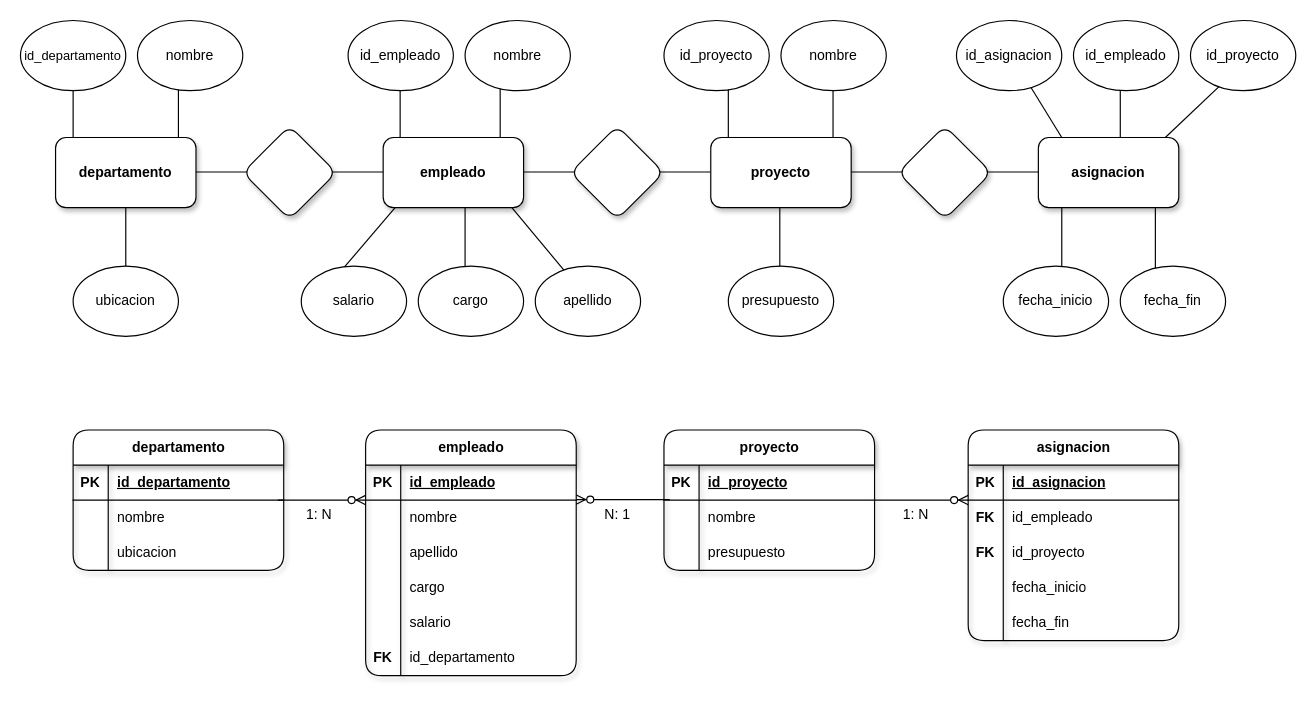
Some shapes in this 1316 by 704 pixel diagram are drawn without their labels. The centre of each missing label's shape, as x and y in pixels:
"mediante" belongs at (x=945, y=174).
"participa" belongs at (x=618, y=174).
"tiene" belongs at (x=290, y=174).
